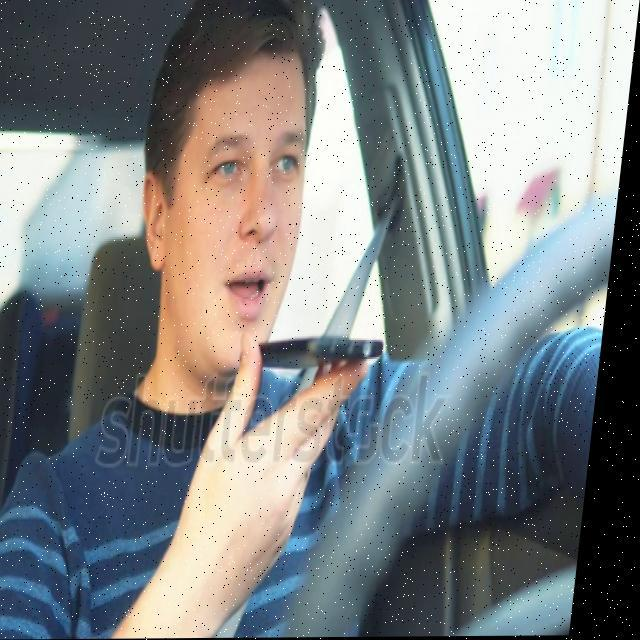PhoneCall: (247, 327, 395, 376)
